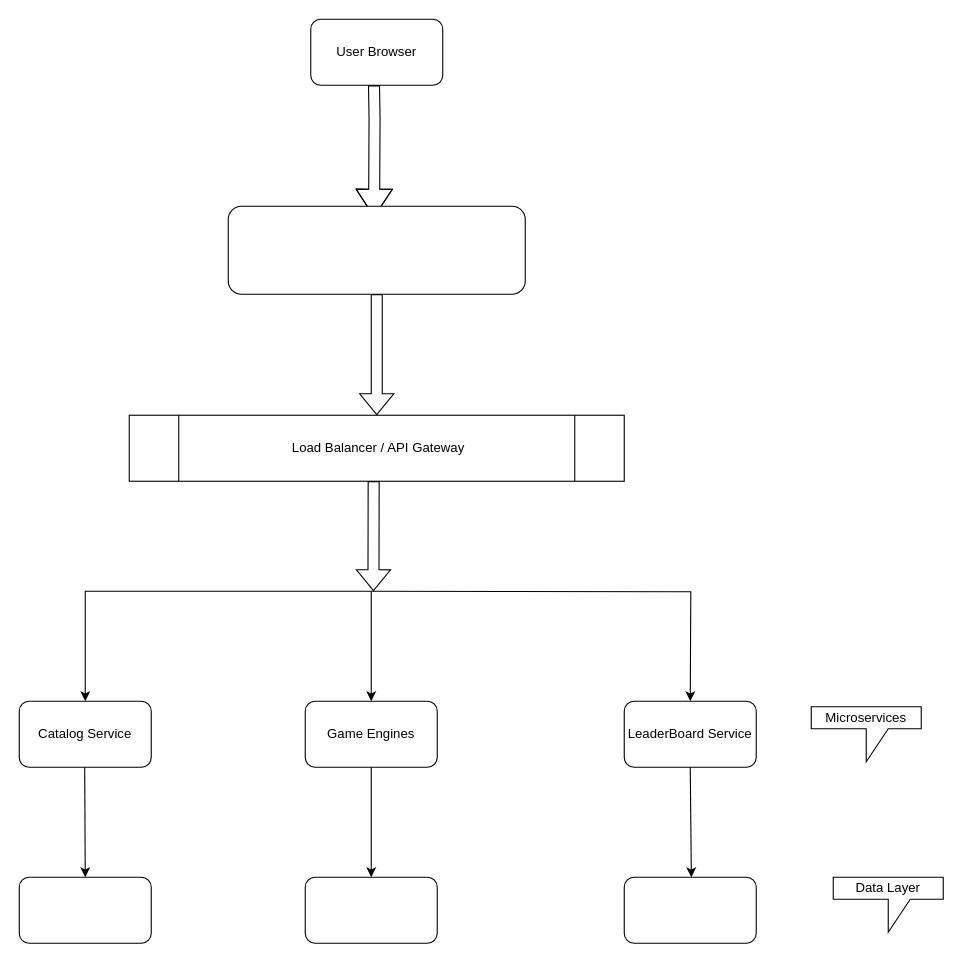
The diagram is 963 pixels wide and 963 high, and some of its shapes have lost their labels. The box of each missing label's shape, as (x1, y1, x2, y2) in pixels:
CDN Caches Static Game Bundles (HTML5, Wasm, Assets): (227, 205, 525, 294)
Redis Cache (Popular Games): (18, 876, 151, 943)
SQL DB for user Data: (304, 876, 437, 943)
Sync Service User Saves: (623, 876, 756, 943)
